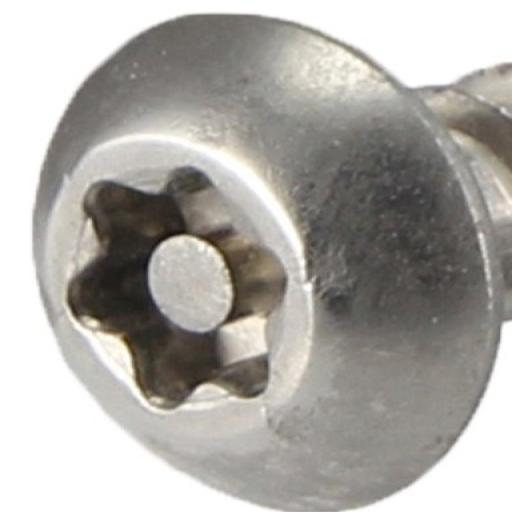Torx: (10, 5, 504, 507)
